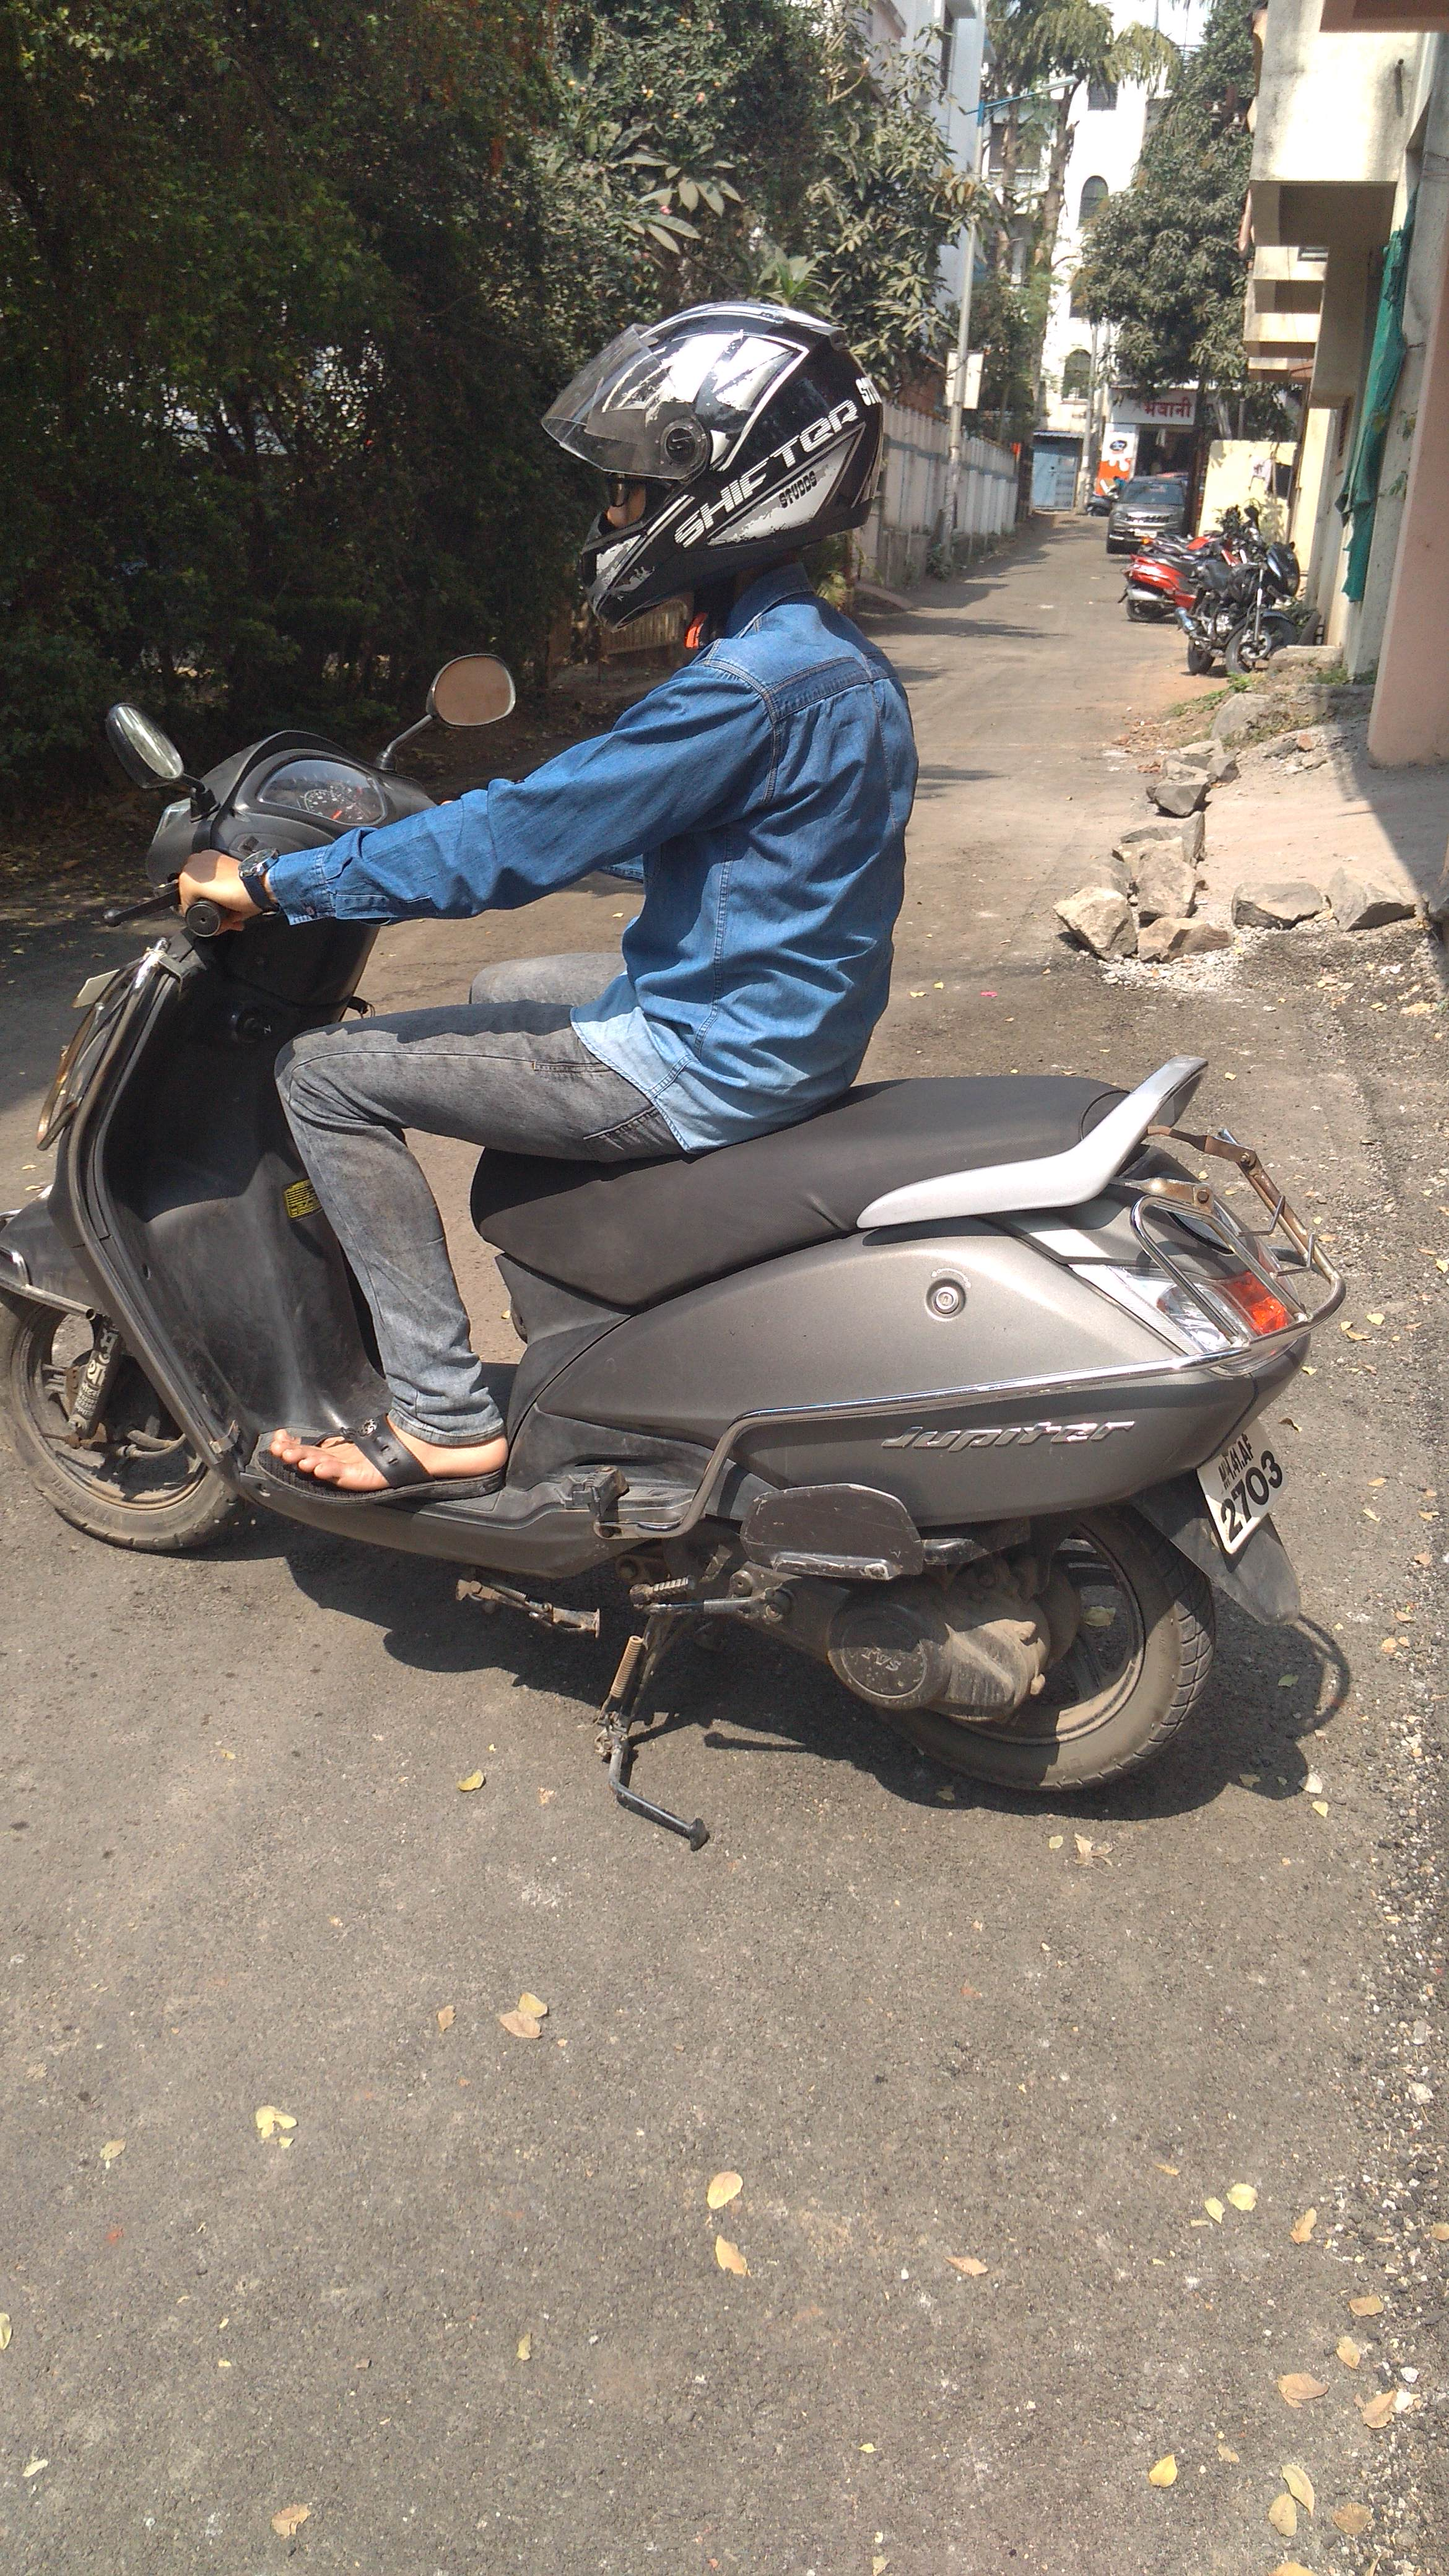helmet: (423, 285, 998, 1217)
